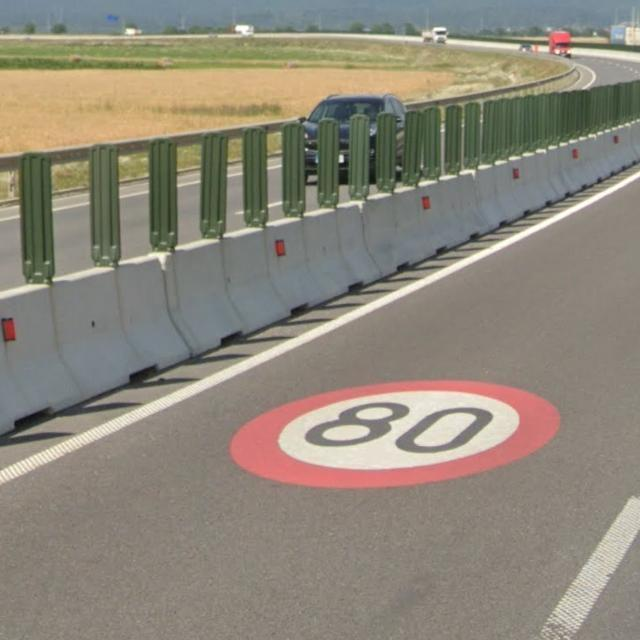forb_speed_over_80: (232, 376, 562, 495)
